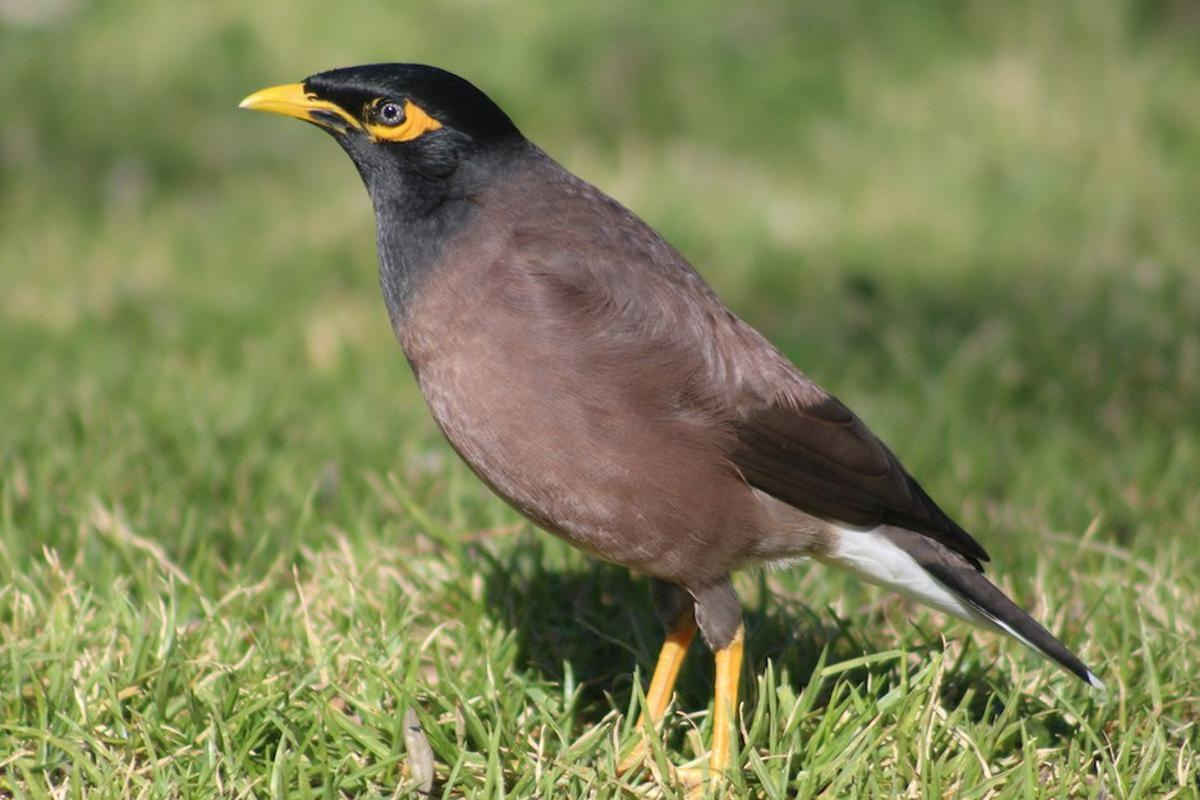myna: (205, 40, 1039, 747)
